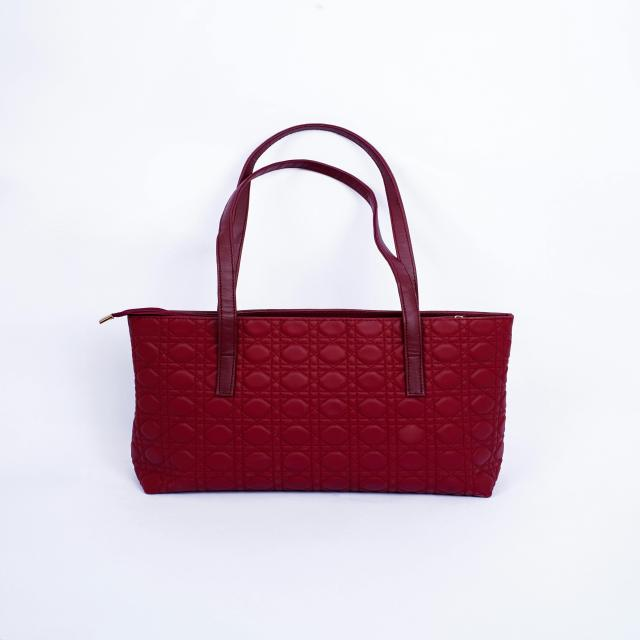bolsa: (96, 113, 522, 510)
